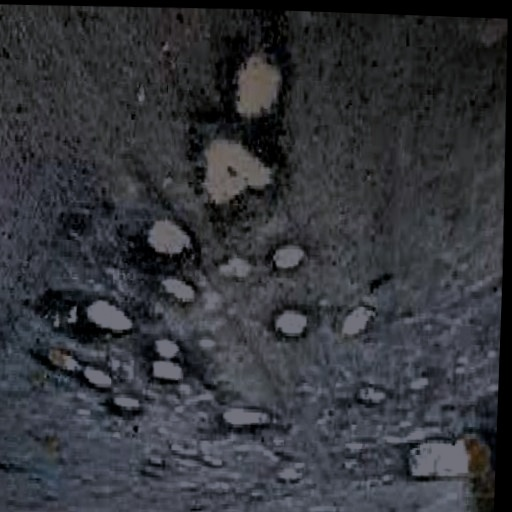pothole: (197, 138, 281, 216), (406, 435, 491, 489), (229, 53, 288, 127), (139, 216, 196, 268), (83, 301, 134, 344), (219, 406, 276, 438), (31, 346, 83, 381), (157, 275, 198, 311), (339, 304, 373, 344), (272, 310, 309, 344), (216, 255, 252, 285), (270, 245, 307, 274), (108, 396, 143, 425), (82, 368, 113, 397), (149, 362, 185, 386), (357, 386, 388, 410), (151, 339, 180, 362)
